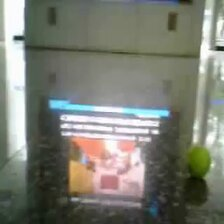tennis: (187, 146, 212, 175)
